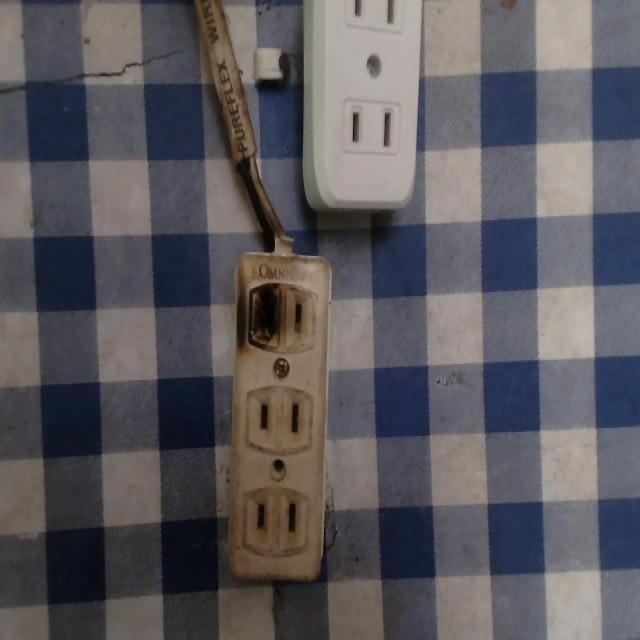-: (243, 272, 284, 353)
